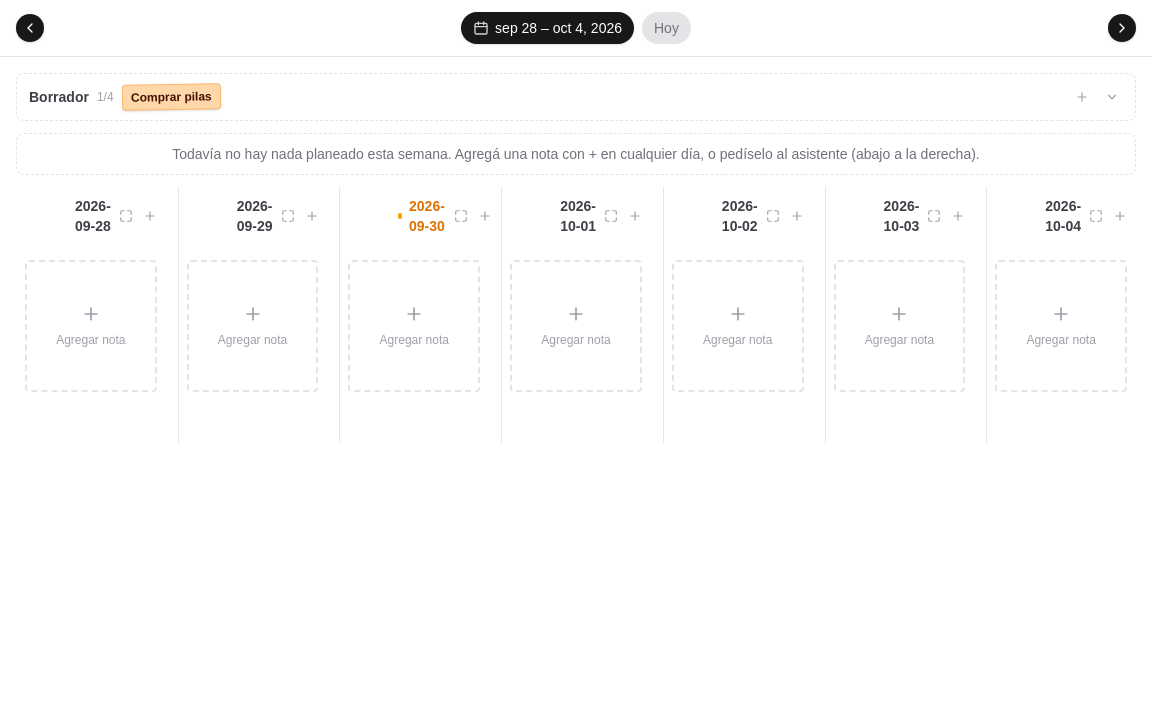
Test: Board › showing changes before the server answers › puts an edit back when saving it fails
Click the button named "Mostrar borradores" at (1112, 97), box top-left (1101, 86), bottom-right (1123, 108)
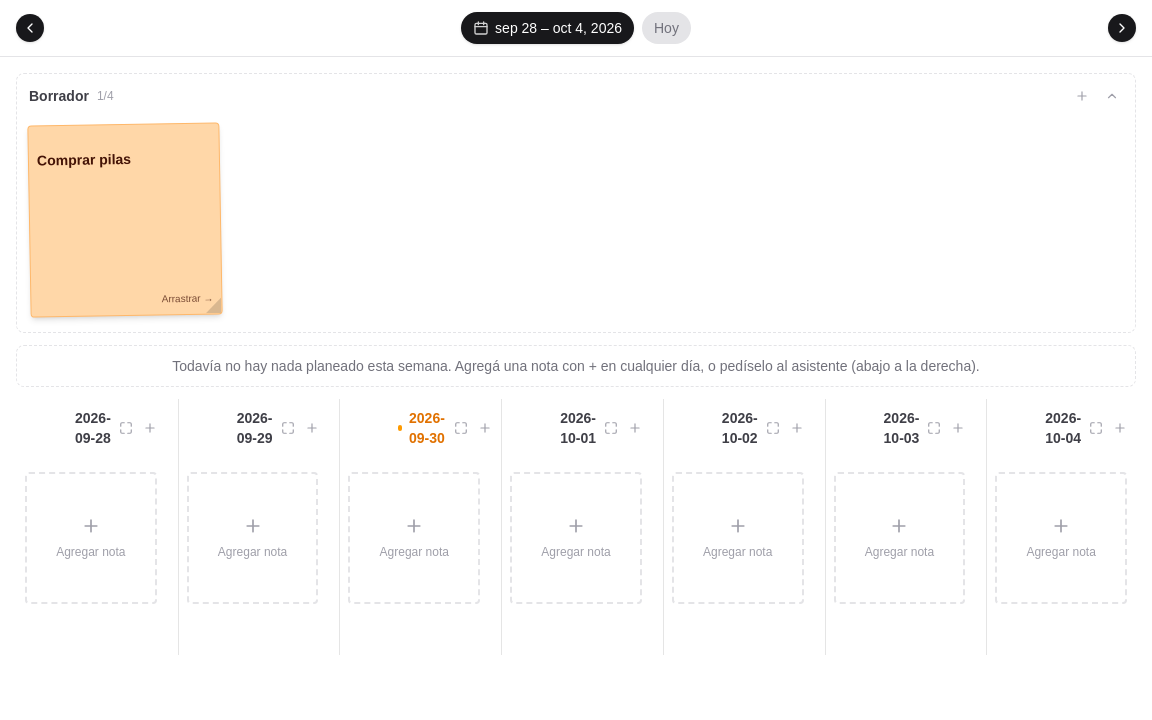
Click the text "Comprar pilas" at (125, 220), box top-left (27, 122), bottom-right (223, 318)
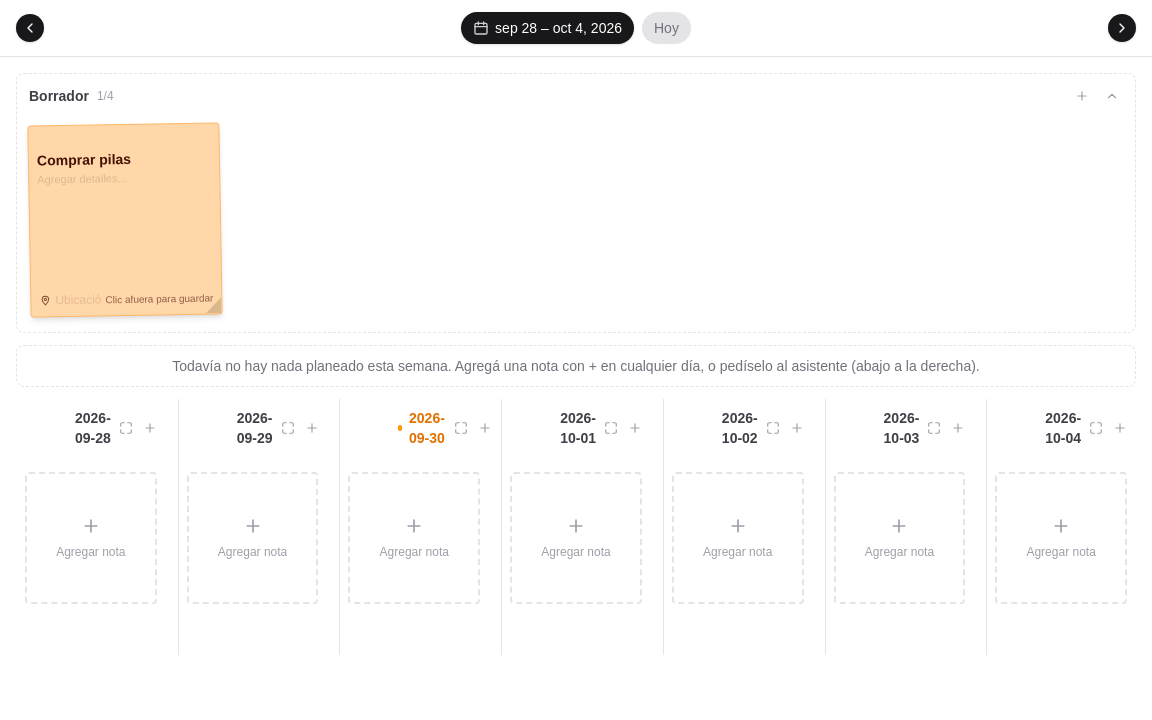
Replace the text in the field named "Título" with "Comprar pilas AA" at (124, 159), box top-left (37, 148), bottom-right (211, 170)
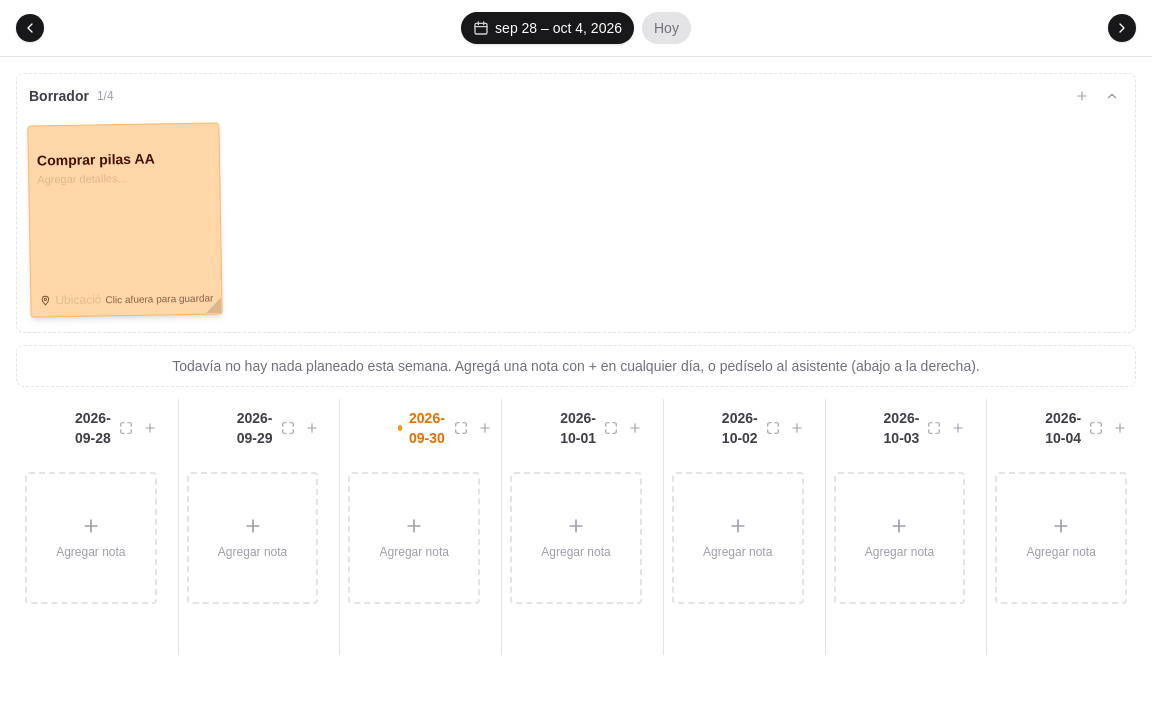
Press Enter in the field named "Título", box top-left (37, 148), bottom-right (211, 170)
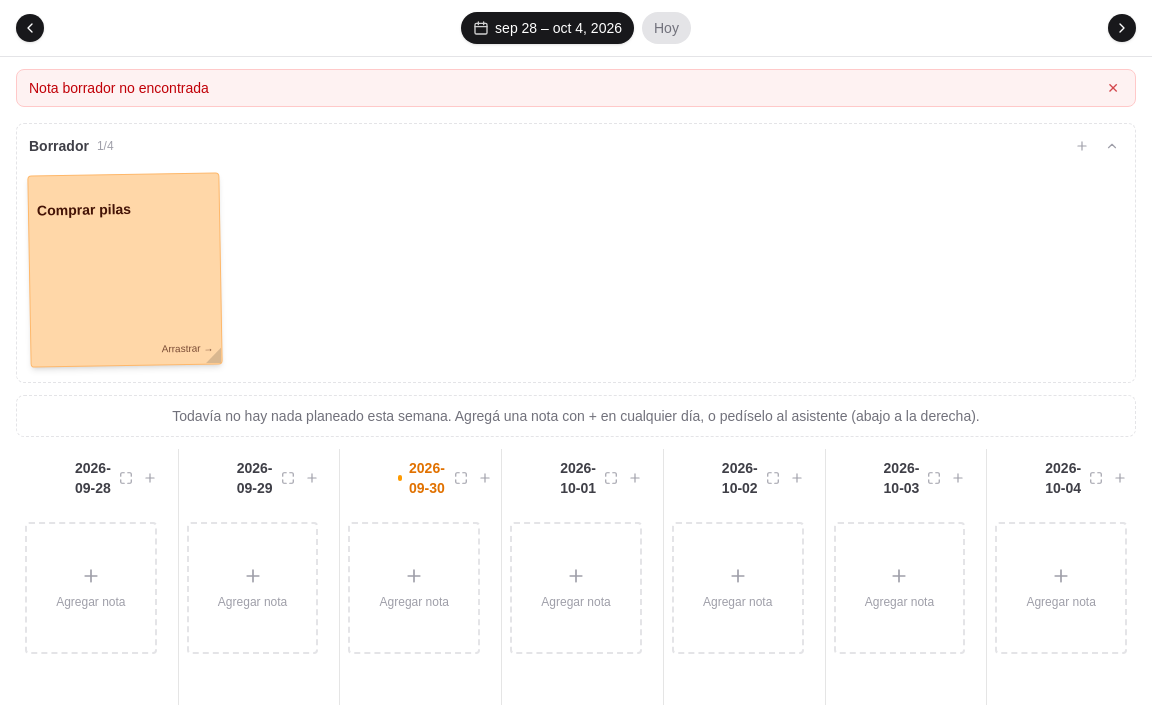
Check: the text "Comprar pilas" is shown, box top-left (37, 201), bottom-right (131, 218)
Check: the message shows "Nota borrador no encontrada", box top-left (29, 80), bottom-right (209, 96)
